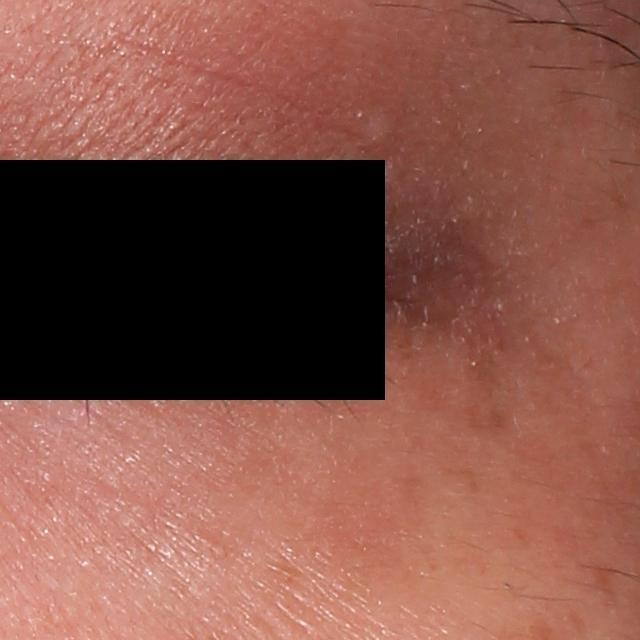melasma: (459, 344, 517, 433), (582, 554, 620, 607)
